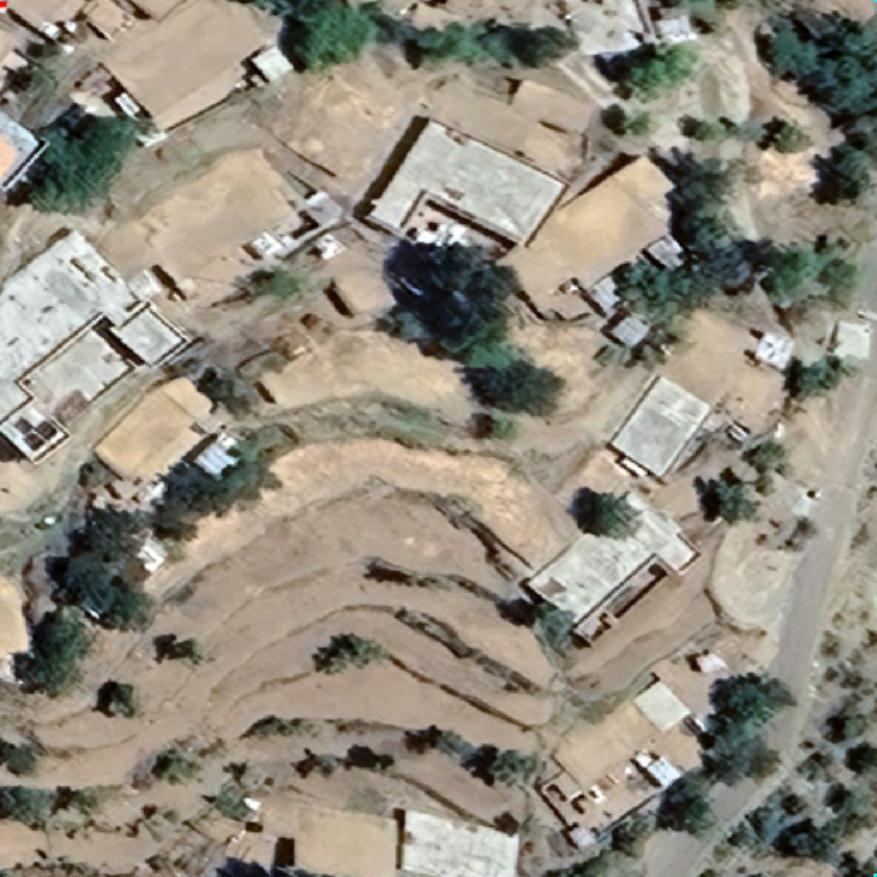Solarpanel: (6, 410, 66, 455)
